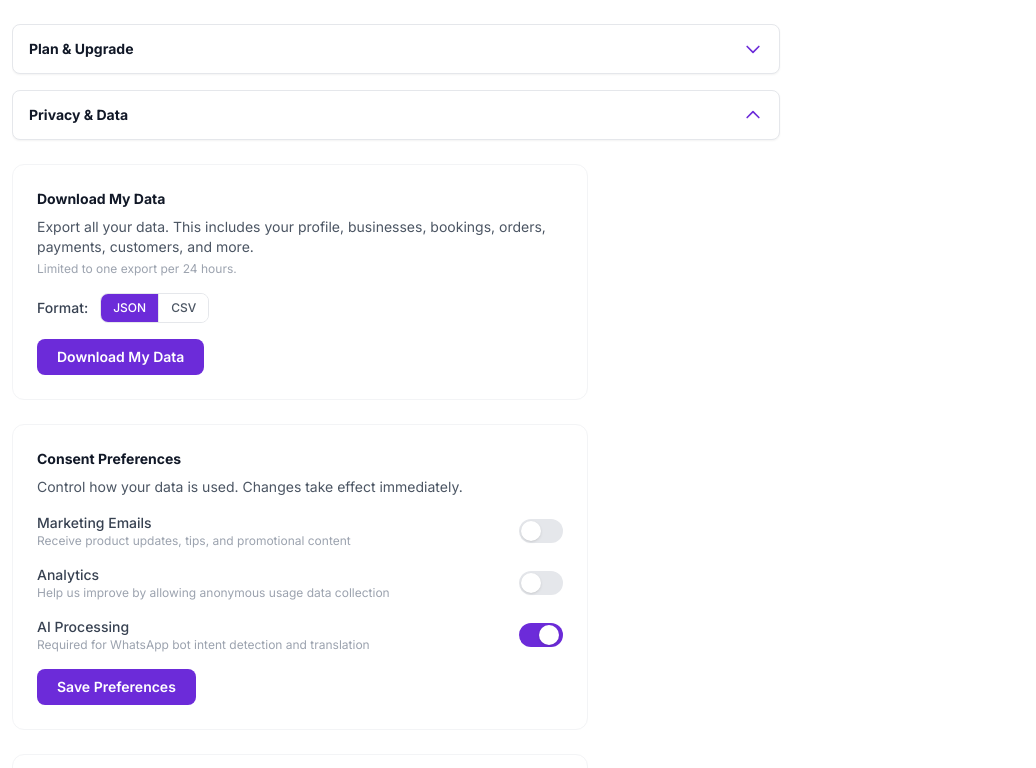
W27 rendered AccountTab with actual consent GET/POST › disables every consent toggle during save and clears success on a later edit
Expected: the button "Save Preferences" is shown, [37,669,196,705]
Click the switch named "Toggle marketing emails" at (541, 531), box [519,519,563,543]
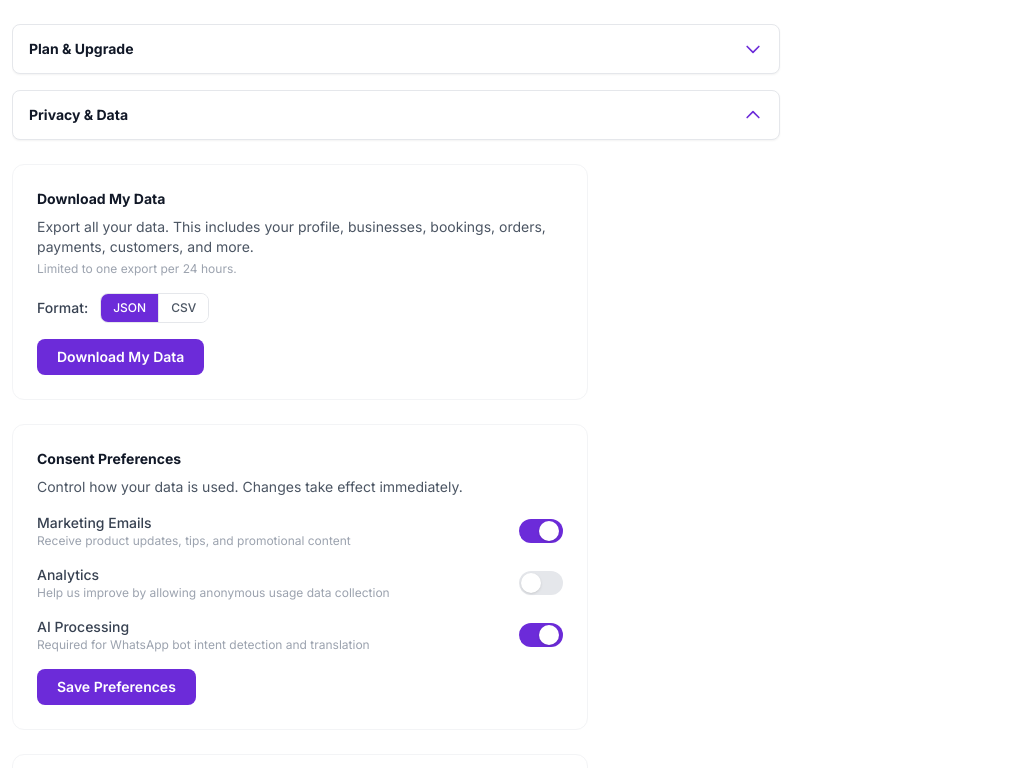
Click the button "Save Preferences" at (116, 687), box [37,669,196,705]
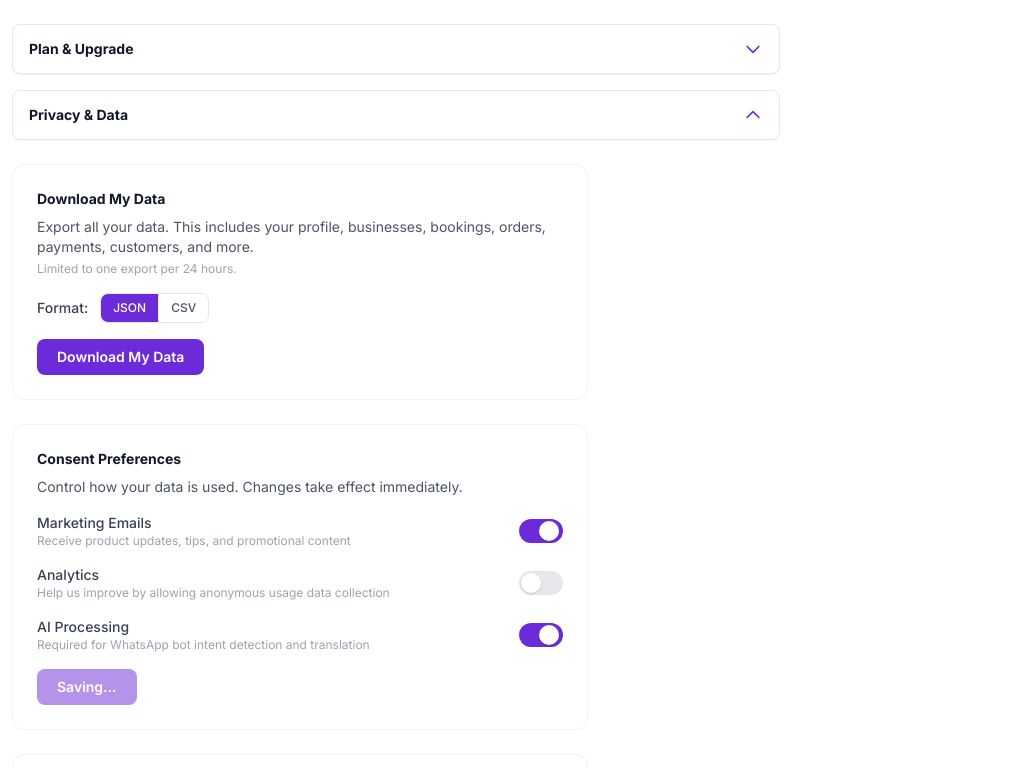
Expected: the switch named "Toggle marketing emails" is disabled, [519,519,563,543]
Expected: the switch named "Toggle AI processing" is disabled, [519,623,563,647]
Click the switch named "Toggle analytics" at (541, 583), box [519,571,563,595]
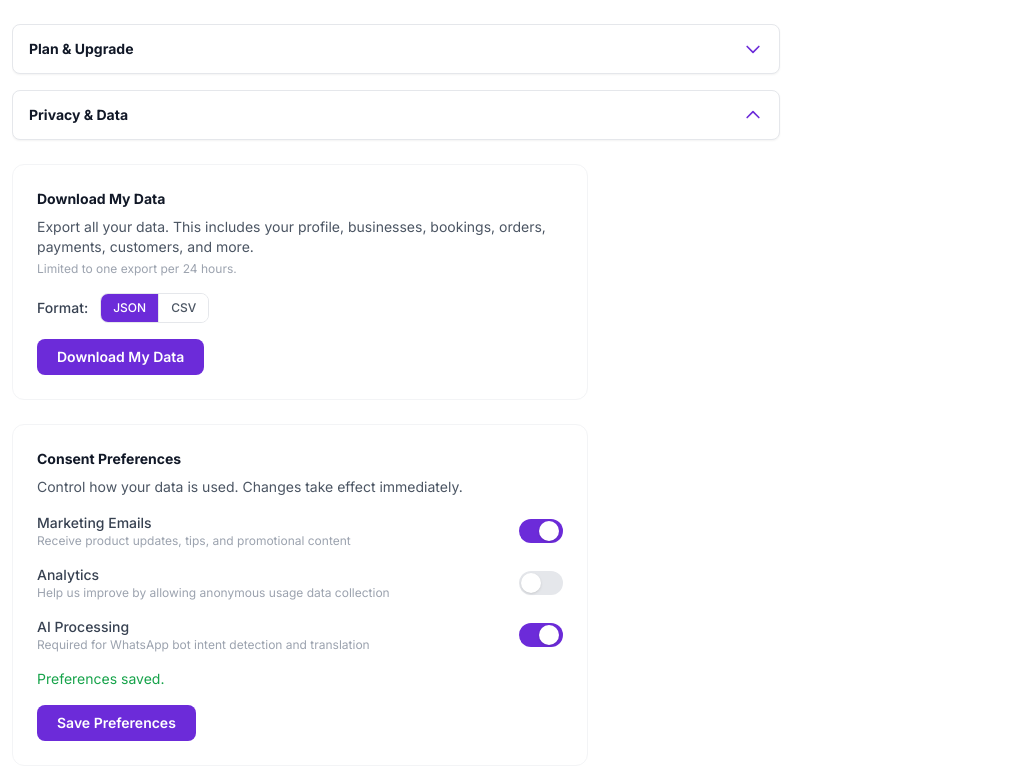
Now the text "Preferences saved." is shown, box [37,670,164,687]
Click the switch named "Toggle analytics" at (541, 583), box [519,571,563,595]
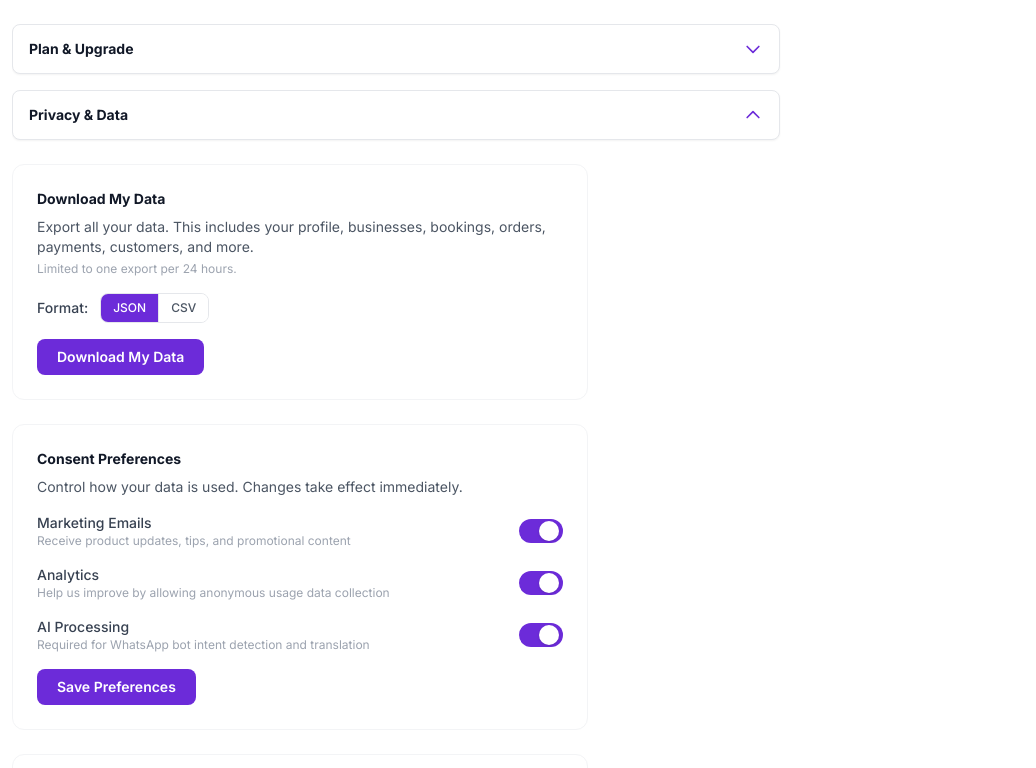
Now the text "Preferences saved." is gone
